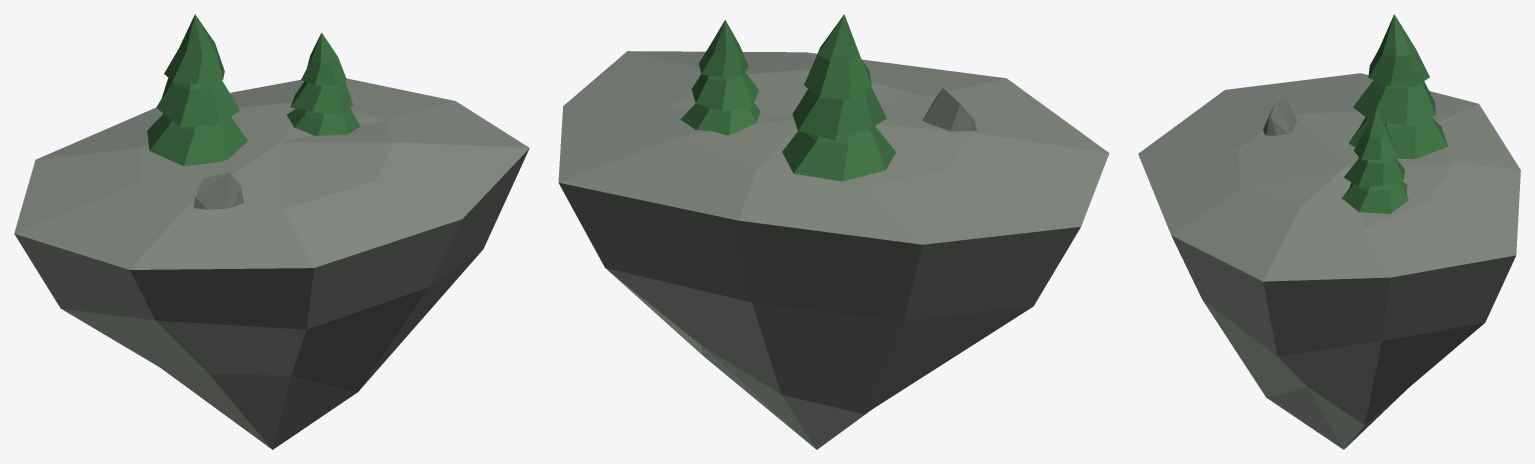
The model's file is decor_rockIsle.glb.
3 views of the same model, side by side, from view 1: azimuth 30°, elevation 25°; view 2: azimuth 150°, elevation 25°; view 3: azimuth 270°, elevation 25° (orthographic). The views are drawn at different scales.
Parts seen in each view (by area): view 1: decor_rockIsle_mesh; view 2: decor_rockIsle_mesh; view 3: decor_rockIsle_mesh.
Part boxes in pixels (x1,y1,x2,y2): decor_rockIsle_mesh: [14, 14, 529, 449]; decor_rockIsle_mesh: [558, 14, 1109, 449]; decor_rockIsle_mesh: [1138, 14, 1520, 449].
Bounding box in the file's own units: 0.9629 × 0.85 × 0.7159.
